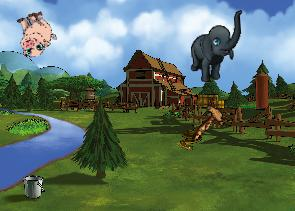eagle: (191, 95, 230, 144)
elephant: (187, 10, 247, 83)
pig: (9, 7, 59, 60)
